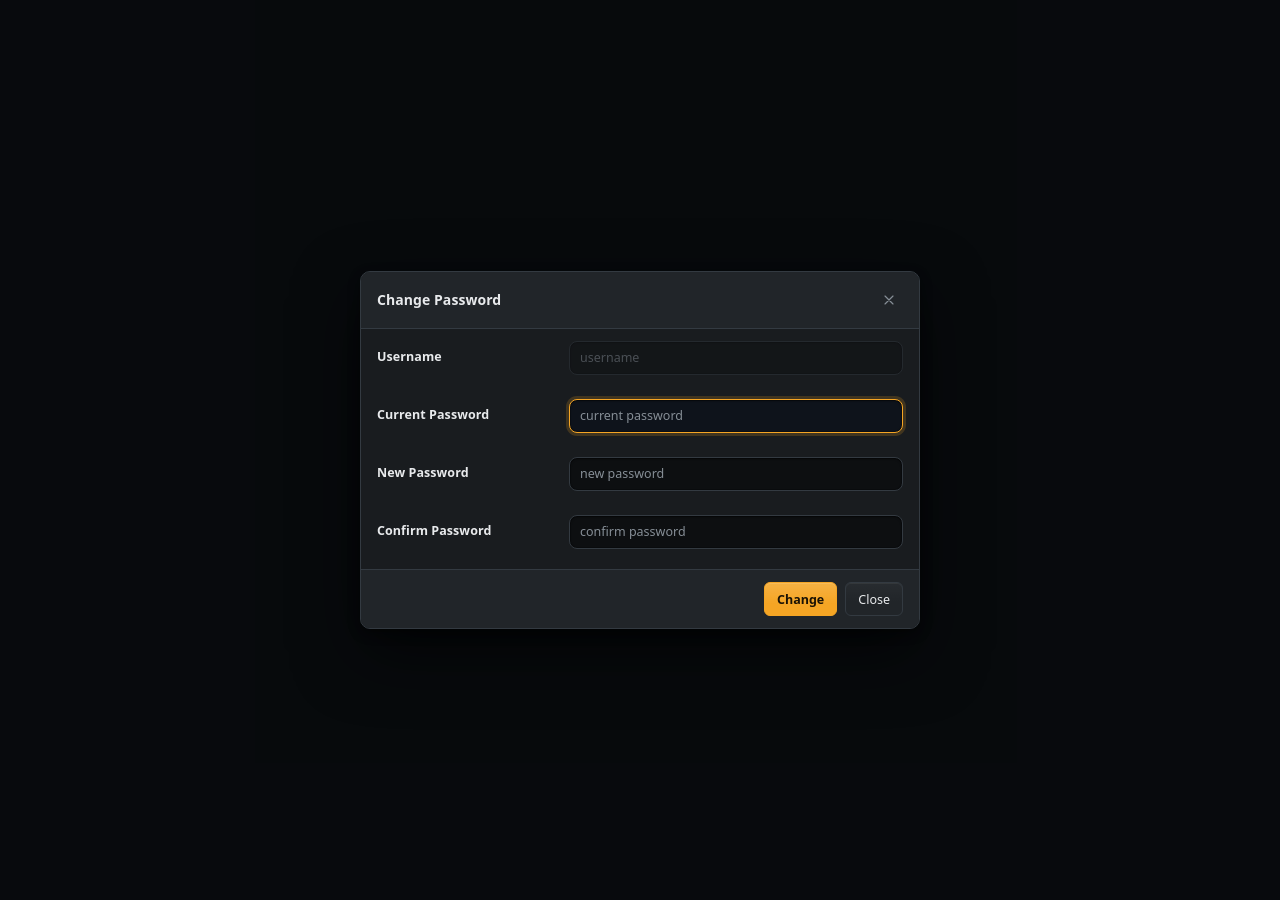
it: Change Password › it requires the current password, with the literal text
Click the button "Change" at {"x": 801, "y": 599}, box [764,582,837,616]
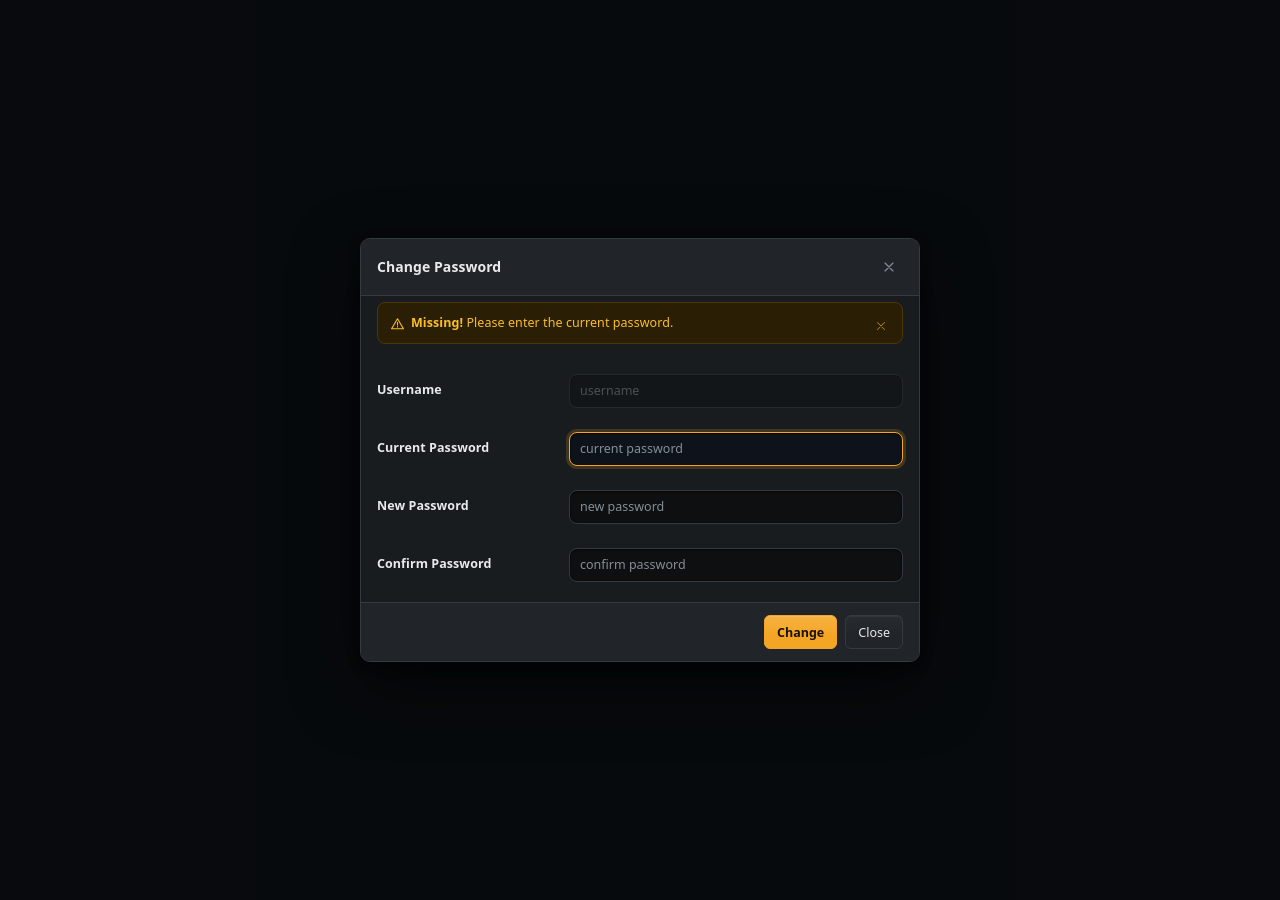
Result: the text "Please enter the current password." is shown at [466,314,673,331]
